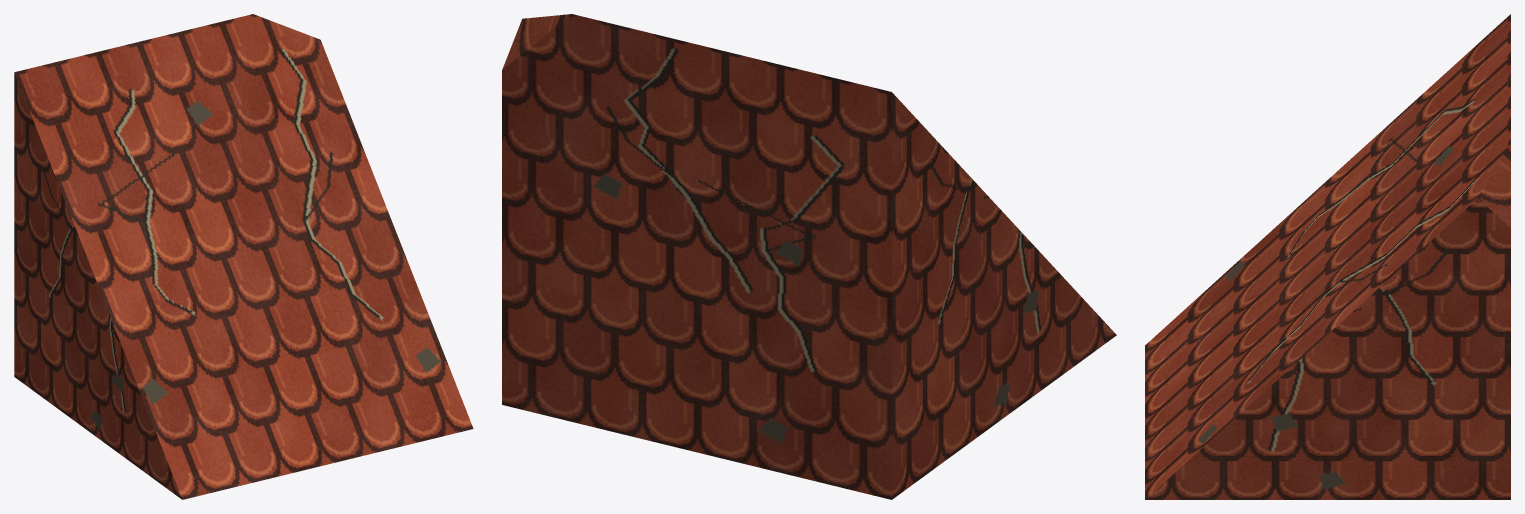
File: roof_z1.glb
3 views of the same model, side by side, from view 1: azimuth 30°, elevation 25°; view 2: azimuth 150°, elevation 25°; view 3: azimuth 270°, elevation 25° (orthographic). The views are drawn at different scales.
Parts seen in each view (by area): view 1: roof_z1; view 2: roof_z1; view 3: roof_z1.
Boxes of the visible parts, x1,y1,x2,y2 form: roof_z1: [14, 14, 473, 499]; roof_z1: [502, 14, 1116, 499]; roof_z1: [1145, 14, 1510, 499].
Size of the model in its own units: 1 by 1 by 1.
1 material, 1 textured.
